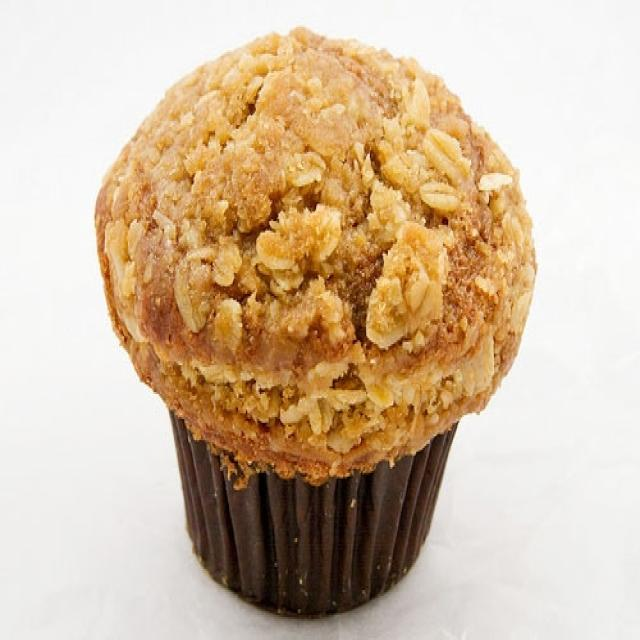炸货点心: (69, 11, 542, 617)
面包点心: (69, 11, 542, 617)
